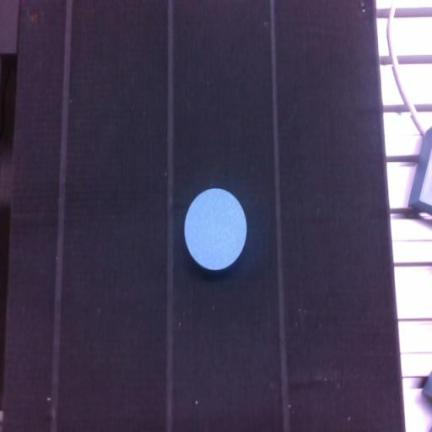cylinder: (184, 188, 246, 270)
